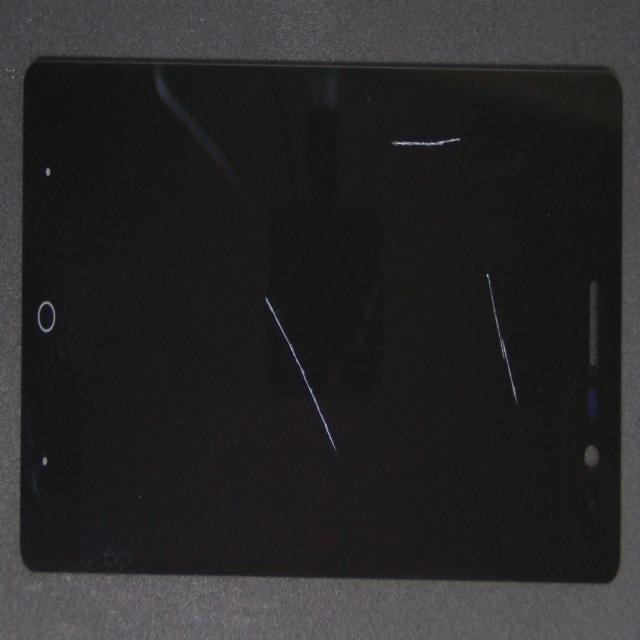scratch: (191, 297, 516, 640), (273, 95, 640, 383), (276, 66, 640, 195)
